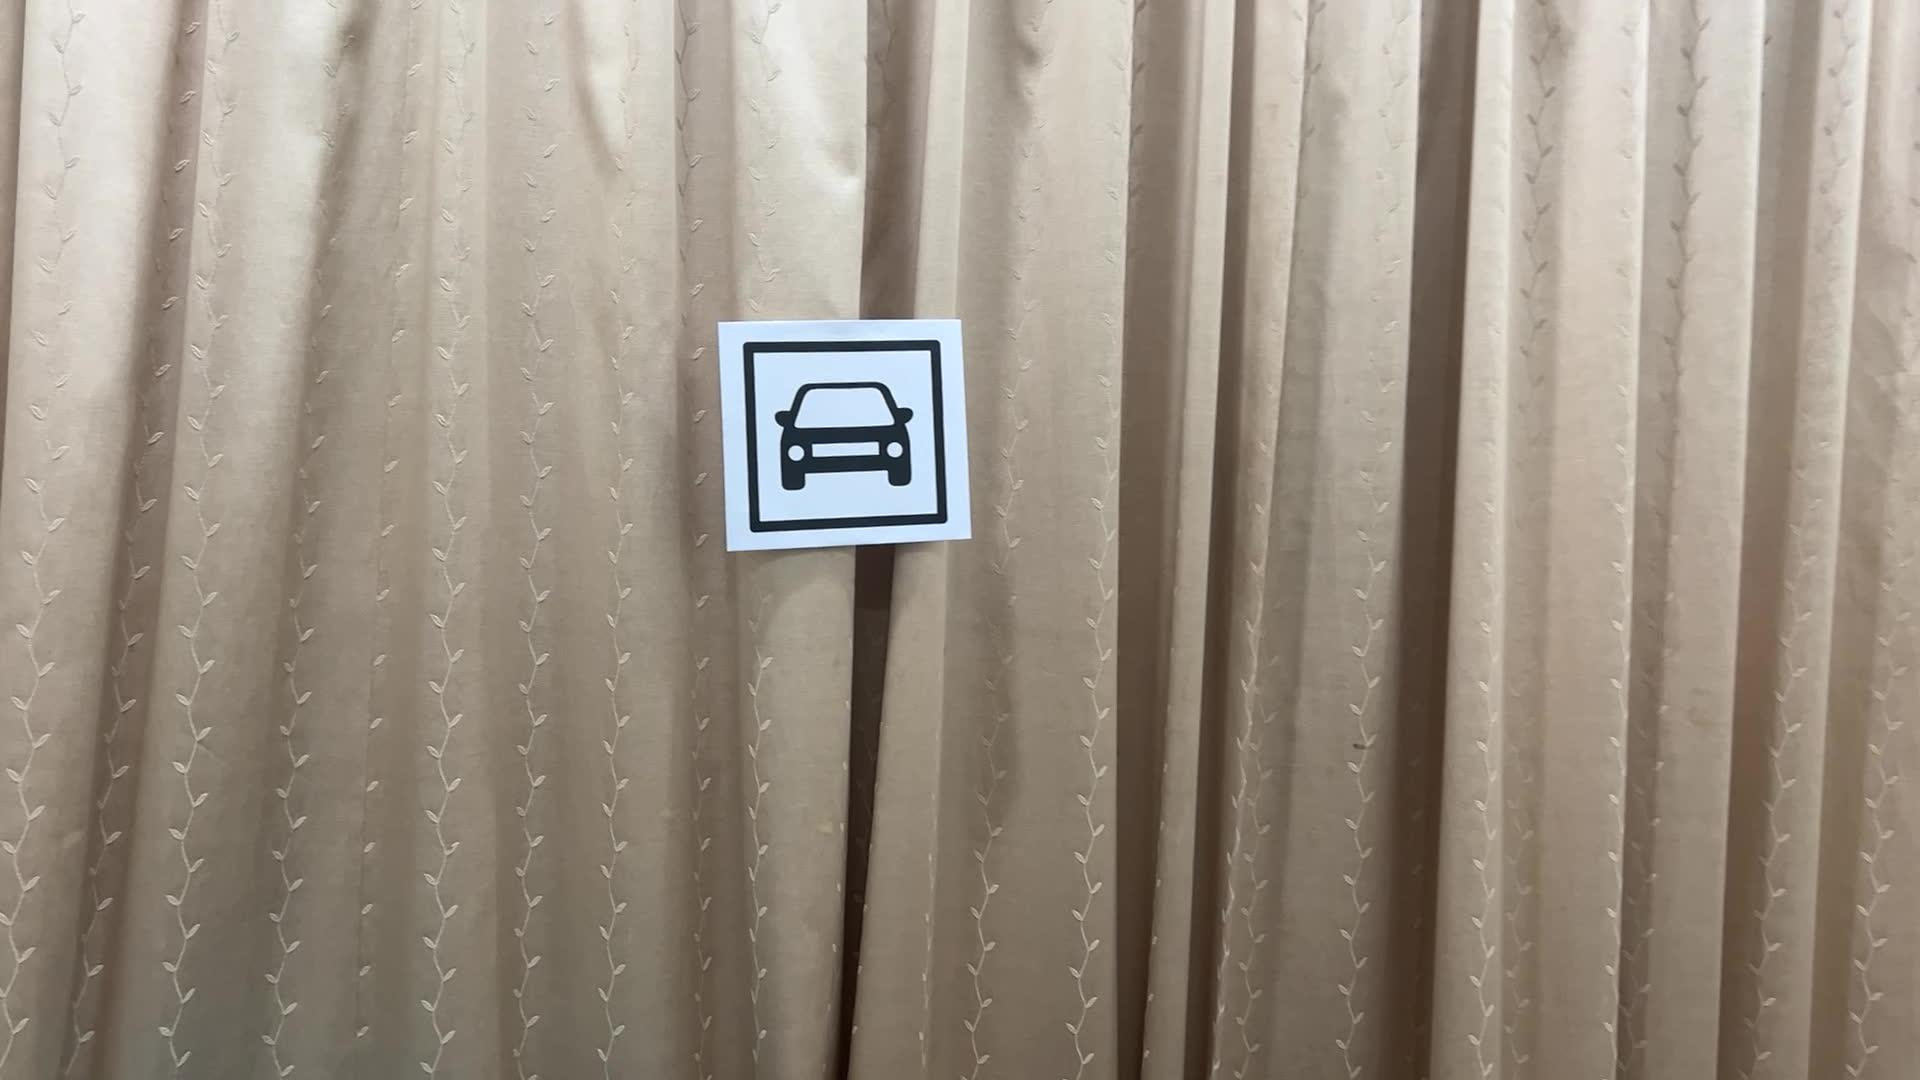car_img: (736, 334, 951, 534)
